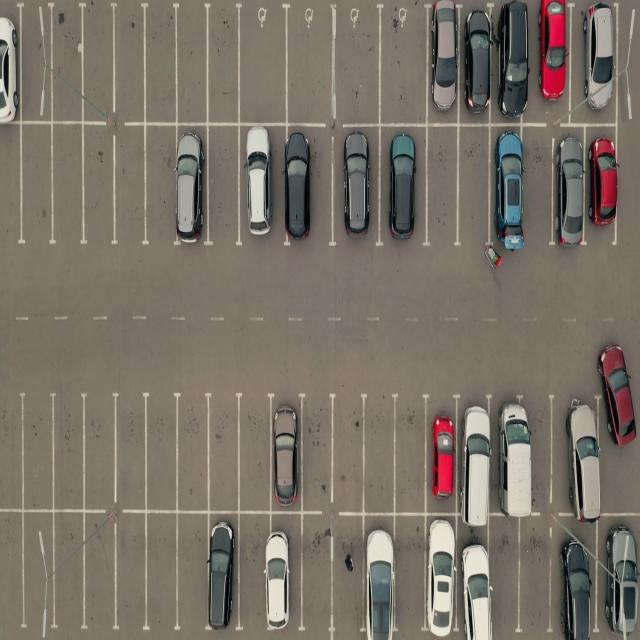space-empty: (238, 5, 289, 124), (377, 5, 426, 126), (288, 8, 338, 124), (334, 6, 381, 125), (46, 513, 88, 631), (15, 126, 53, 248), (47, 4, 86, 122), (176, 4, 213, 125), (519, 515, 557, 632), (142, 4, 179, 124), (49, 128, 86, 248), (205, 5, 242, 125), (143, 394, 181, 510), (238, 394, 276, 510), (205, 125, 242, 244), (78, 129, 115, 248), (78, 397, 116, 512), (141, 128, 177, 248), (177, 395, 214, 511), (17, 396, 54, 512), (115, 513, 151, 632), (78, 2, 114, 121), (112, 4, 148, 123), (113, 129, 149, 248), (458, 126, 493, 248), (50, 397, 87, 512), (113, 397, 150, 512), (80, 513, 116, 631), (18, 512, 54, 630), (332, 516, 367, 636), (393, 396, 429, 512), (143, 513, 178, 632), (359, 400, 396, 512), (204, 395, 240, 510), (297, 396, 333, 510), (297, 514, 331, 634), (236, 513, 270, 633), (424, 124, 458, 243), (177, 513, 211, 632), (15, 4, 49, 120), (331, 396, 366, 508), (396, 515, 428, 637), (488, 516, 520, 636), (524, 125, 556, 245), (0, 386, 24, 508), (0, 512, 24, 633), (0, 127, 22, 249)
space-occupied: (282, 128, 332, 248), (552, 388, 598, 516), (491, 393, 537, 514), (382, 123, 428, 241), (573, 2, 618, 122), (333, 129, 379, 246), (240, 127, 285, 246), (551, 524, 595, 638), (533, 0, 572, 120), (492, 3, 530, 124), (459, 394, 497, 514), (423, 515, 459, 637), (264, 510, 300, 631), (489, 126, 524, 250), (425, 6, 461, 125), (459, 516, 494, 638), (603, 521, 640, 636), (423, 396, 459, 514), (176, 128, 211, 248), (362, 512, 395, 638), (268, 394, 303, 509), (553, 128, 587, 244), (463, 8, 495, 125), (207, 511, 238, 631), (585, 127, 615, 237), (0, 4, 20, 123)
